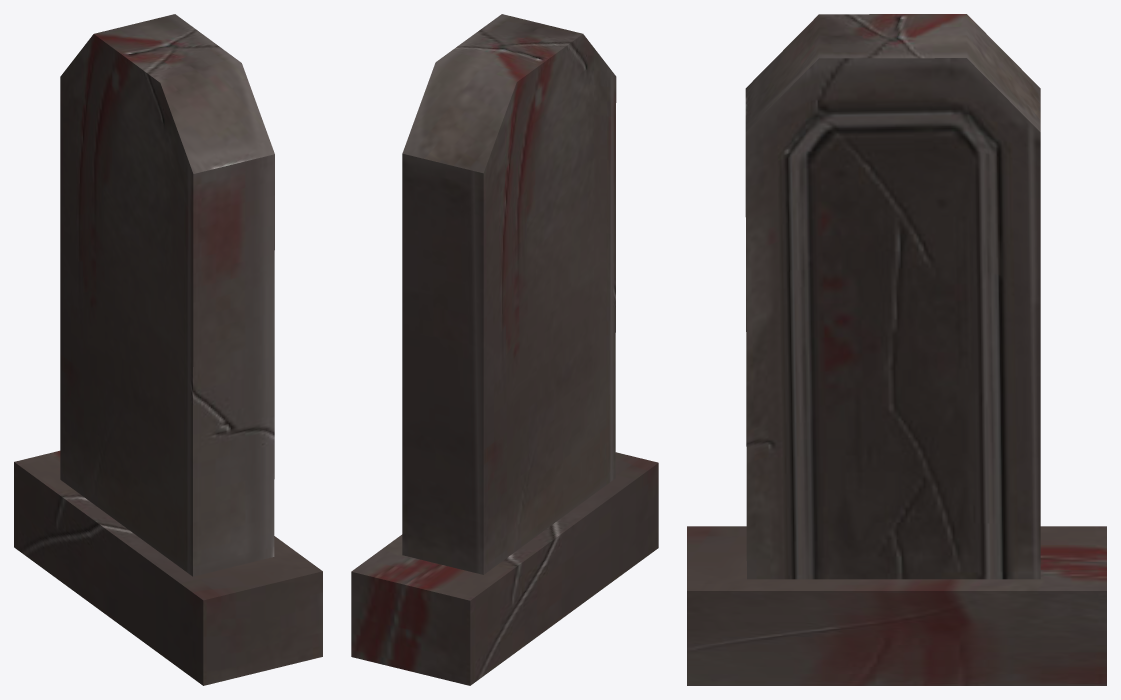
The model's file is fancy_tombstone_3_.fbx.
3 views of the same model, side by side, from view 1: azimuth 30°, elevation 25°; view 2: azimuth 150°, elevation 25°; view 3: azimuth 270°, elevation 25° (orthographic). The views are drawn at different scales.
Visible parts, largest first — view 1: Fancy_Tombstone_3; view 2: Fancy_Tombstone_3; view 3: Fancy_Tombstone_3.
Boxes of the visible parts, box(x1,y1,x2,y2) form: Fancy_Tombstone_3: box(14, 14, 322, 685); Fancy_Tombstone_3: box(351, 14, 658, 685); Fancy_Tombstone_3: box(687, 14, 1106, 685).
Bounding box in the file's own units: 1.32 × 5.86 × 3.62.
